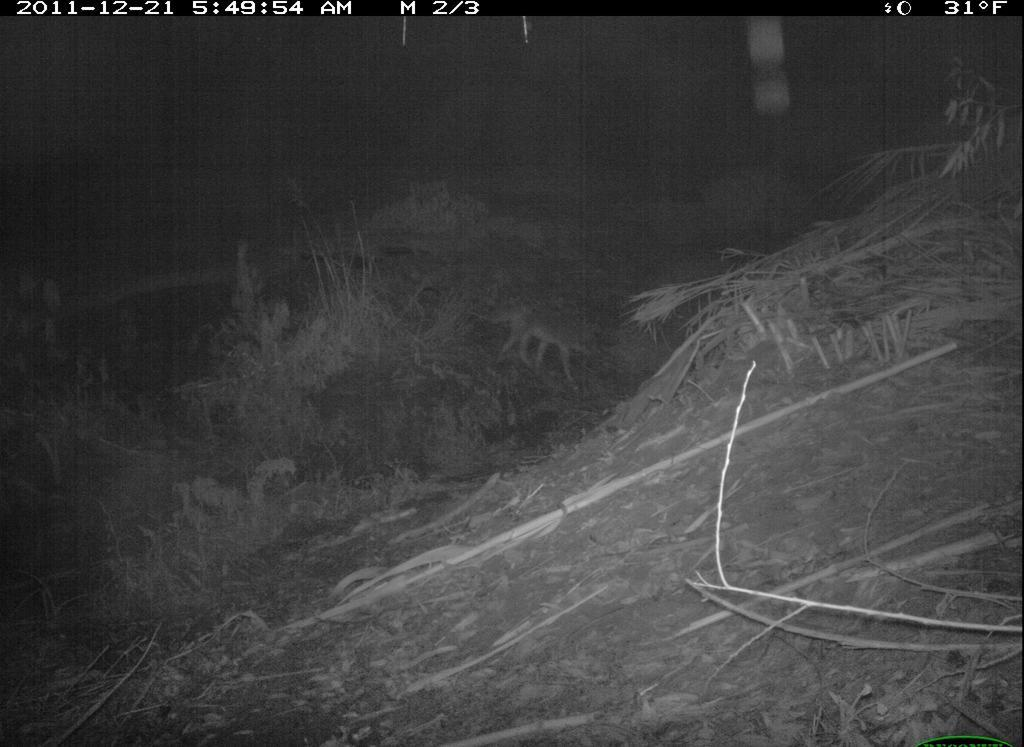coyote: (487, 299, 600, 383)
